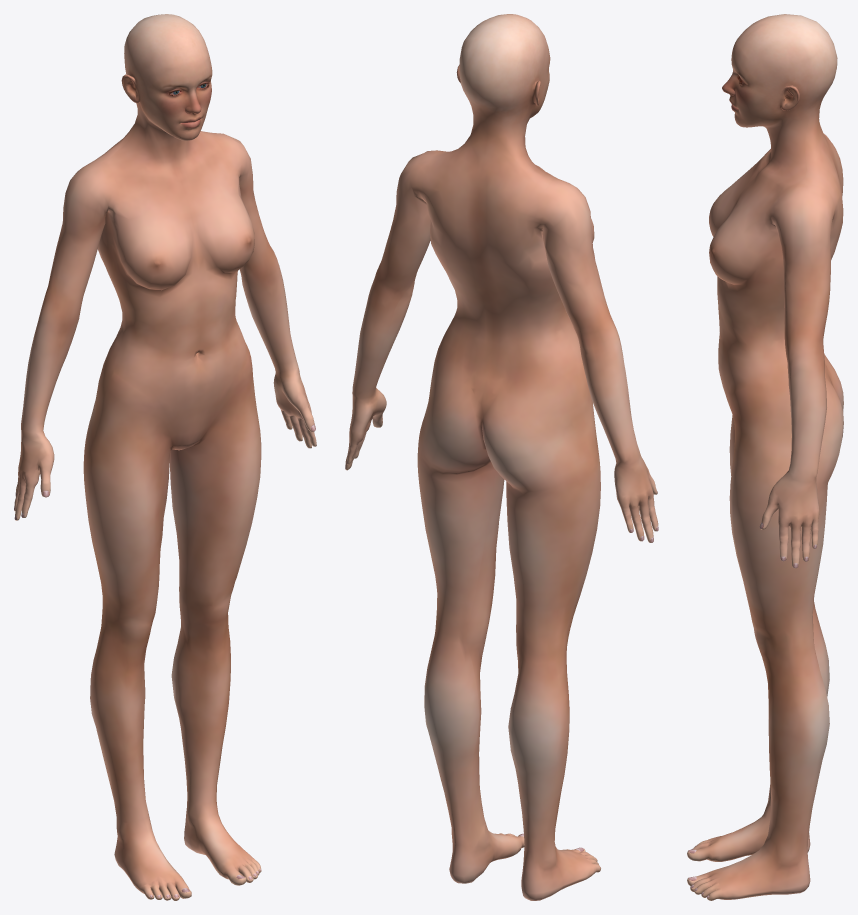
The model's file is womanbody.obj.
3 views of the same model, side by side, from view 1: azimuth 30°, elevation 25°; view 2: azimuth 150°, elevation 25°; view 3: azimuth 270°, elevation 25° (orthographic). The views are drawn at different scales.
Parts seen in each view (by area): view 1: CC_Base_Body; view 2: CC_Base_Body; view 3: CC_Base_Body.
Boxes of the visible parts, x1,y1,x2,y2 form: CC_Base_Body: (14, 14, 316, 900); CC_Base_Body: (345, 14, 658, 900); CC_Base_Body: (687, 14, 843, 900).
Bounding box in the file's own units: 66.33 × 179 × 29.77.
